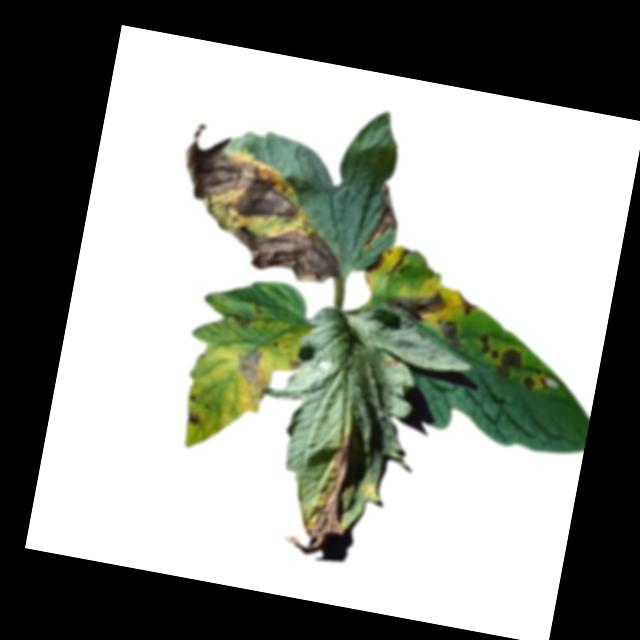Early_blight: (174, 119, 327, 228), (200, 209, 351, 290), (281, 423, 363, 560), (358, 179, 404, 251), (382, 279, 448, 329), (231, 340, 274, 403), (494, 344, 525, 380), (437, 315, 468, 350), (521, 367, 552, 393), (475, 333, 501, 360), (454, 292, 479, 320), (363, 250, 387, 275), (229, 312, 255, 331), (184, 407, 203, 426), (247, 301, 264, 317)
